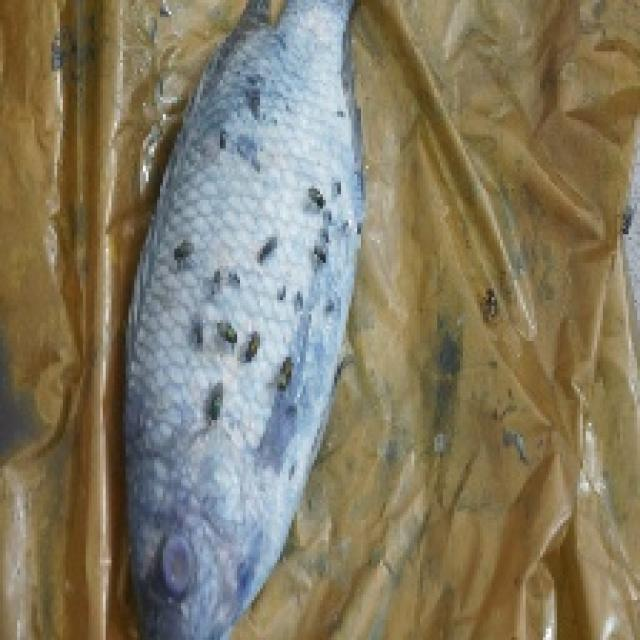Non-Fresh: (134, 22, 360, 519), (145, 517, 210, 618)
